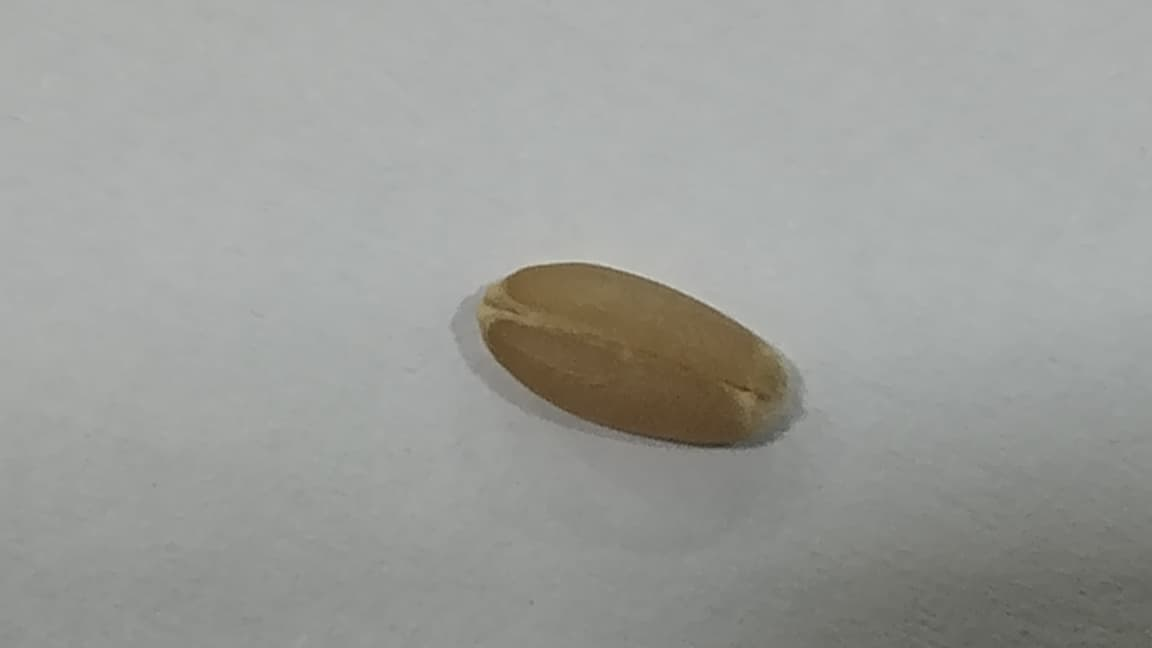healthy: (477, 262, 793, 445)
